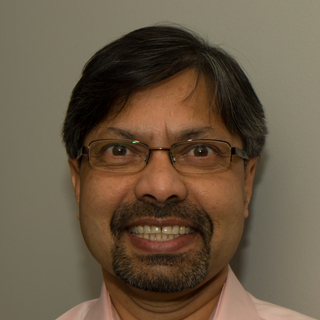eye: (178, 140, 224, 163), (101, 140, 145, 162)
